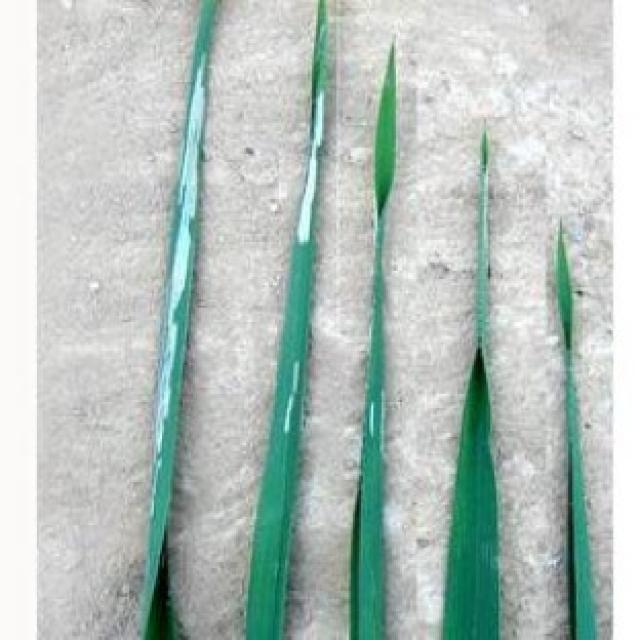rice leaf roller: (154, 0, 217, 498), (295, 98, 322, 242), (275, 361, 297, 435), (365, 403, 371, 433)
